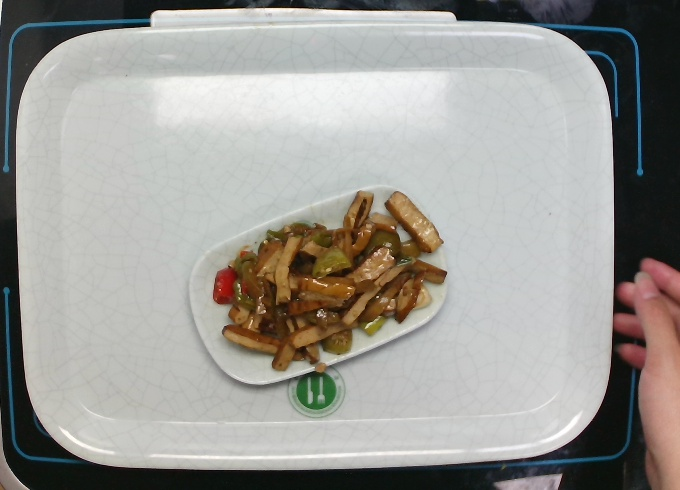WCQzf-Tuo_Yuan_Pan: (185, 182, 453, 391)
